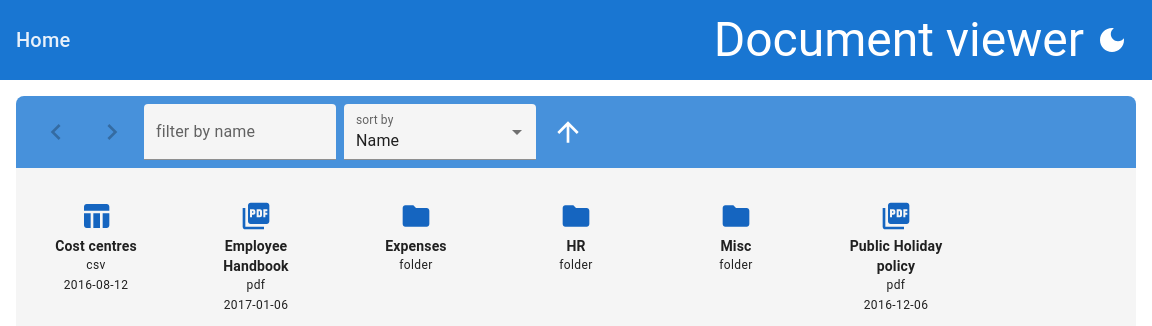
Test: App › opens a folder when clicked
Click the button named "Open Expenses" at (416, 238), box [352,192,480,284]
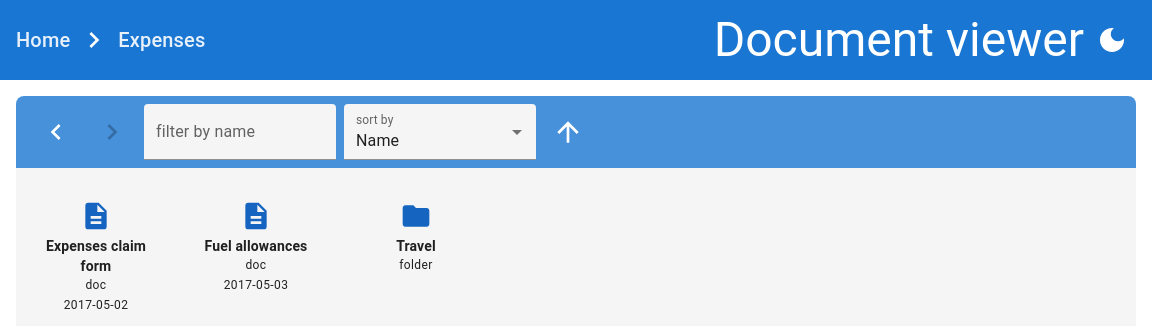
Now the button named "Navigate to Expenses" is shown, box [118,24,206,56]
Now the text "Expenses claim form" is shown, box [46,238,146,274]
Now the text "Fuel allowances" is shown, box [204,238,308,254]
